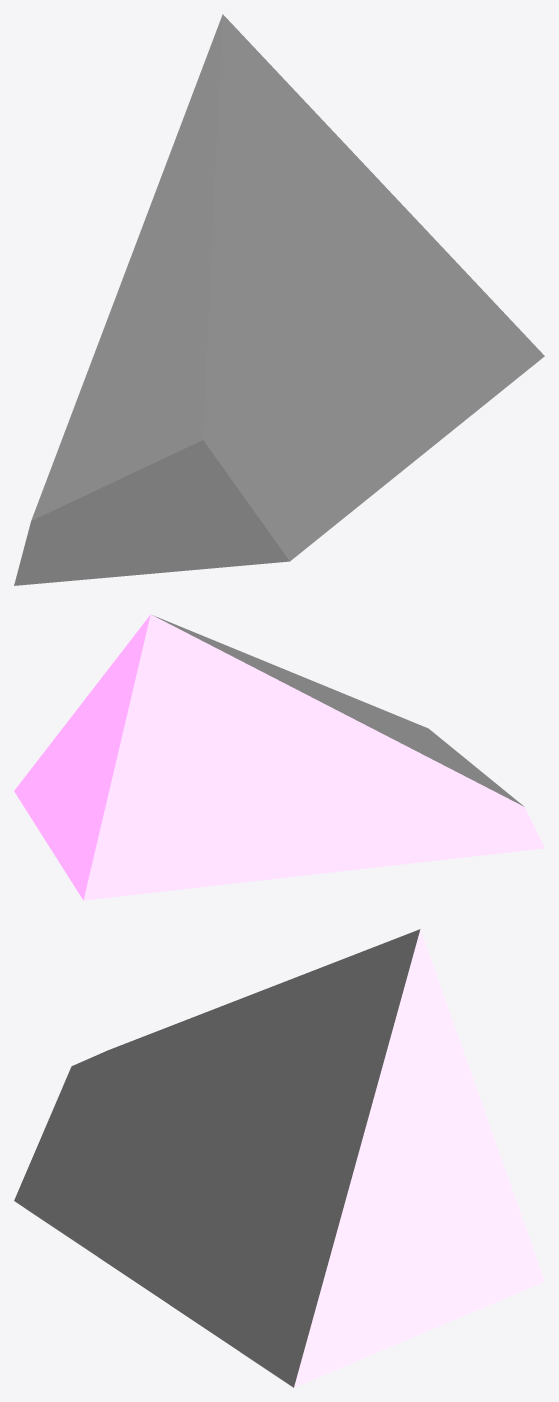
Rendered from Cone_after_003.fbx.
The picture shows the model from 3 angles, top to bottom: view 1: azimuth 30°, elevation 25°; view 2: azimuth 150°, elevation 25°; view 3: azimuth 270°, elevation 25°; orthographic projection. The views are drawn at different scales.
Parts seen in each view (by area): view 1: Cone_after_003; view 2: Cone_after_003; view 3: Cone_after_003.
Part boxes in pixels (bbox=[...]): Cone_after_003: bbox=[14, 14, 544, 585]; Cone_after_003: bbox=[14, 614, 544, 900]; Cone_after_003: bbox=[14, 929, 544, 1387].
Bounding box in the file's own units: 5.46 × 2.93 × 4.15.
